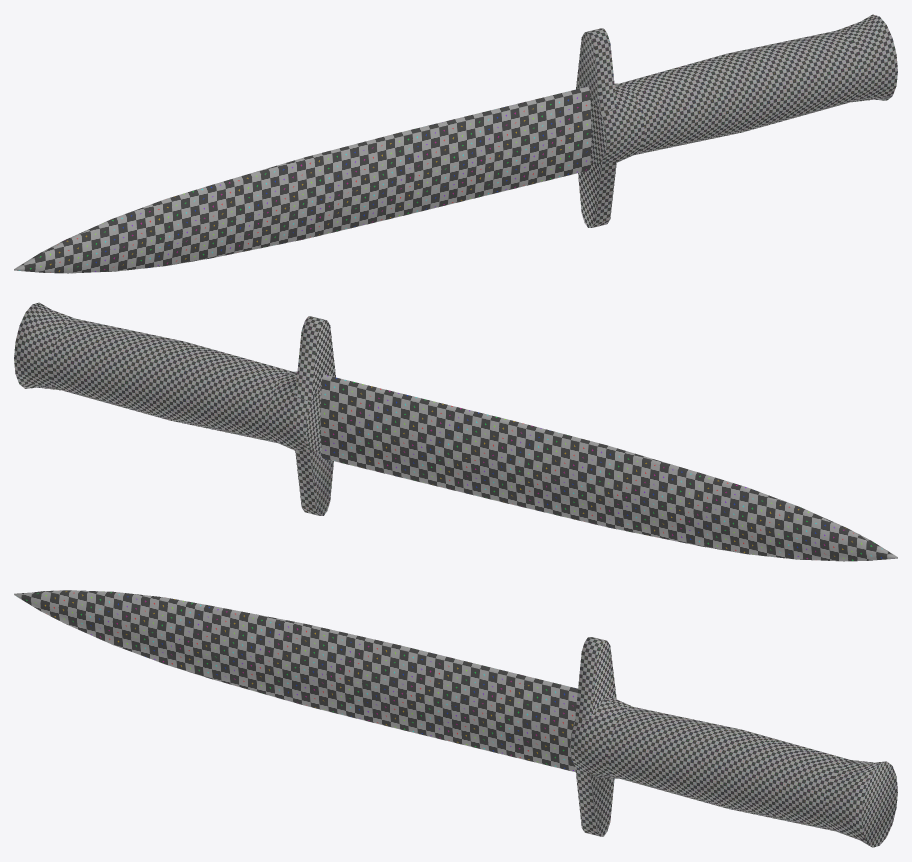
Rendered from default_knife.glb.
3 renders of one model, top to bottom at view 1: azimuth 30°, elevation 25°; view 2: azimuth 150°, elevation 25°; view 3: azimuth 330°, elevation 25°, orthographic.
Parts seen in each view (by area): view 1: Blade_low, Grip_low, Cross-Guard_low, Pommel_low; view 2: Blade_low, Grip_low, Cross-Guard_low, Pommel_low; view 3: Blade_low, Grip_low, Cross-Guard_low, Pommel_low.
Boxes of the visible parts, box(x1,y1,x2,y2) form: Blade_low: box(14, 86, 591, 273); Grip_low: box(620, 30, 861, 154); Cross-Guard_low: box(576, 28, 644, 227); Pommel_low: box(836, 14, 897, 102); Blade_low: box(320, 374, 897, 561); Grip_low: box(50, 318, 291, 442); Cross-Guard_low: box(267, 316, 335, 515); Pommel_low: box(14, 302, 75, 390); Blade_low: box(14, 590, 577, 772); Grip_low: box(608, 707, 849, 831); Cross-Guard_low: box(570, 637, 632, 836); Pommel_low: box(825, 760, 897, 847).
Bounding box in the file's own units: 10.77 × 2.33 × 0.7913.
4 materials, 4 textured.
